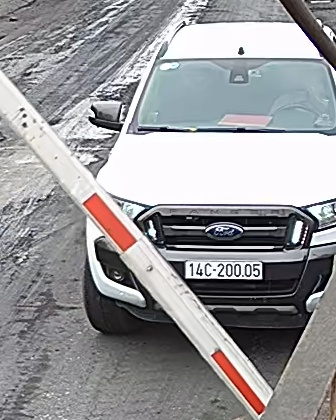vehicle plate: (182, 257, 266, 284)
